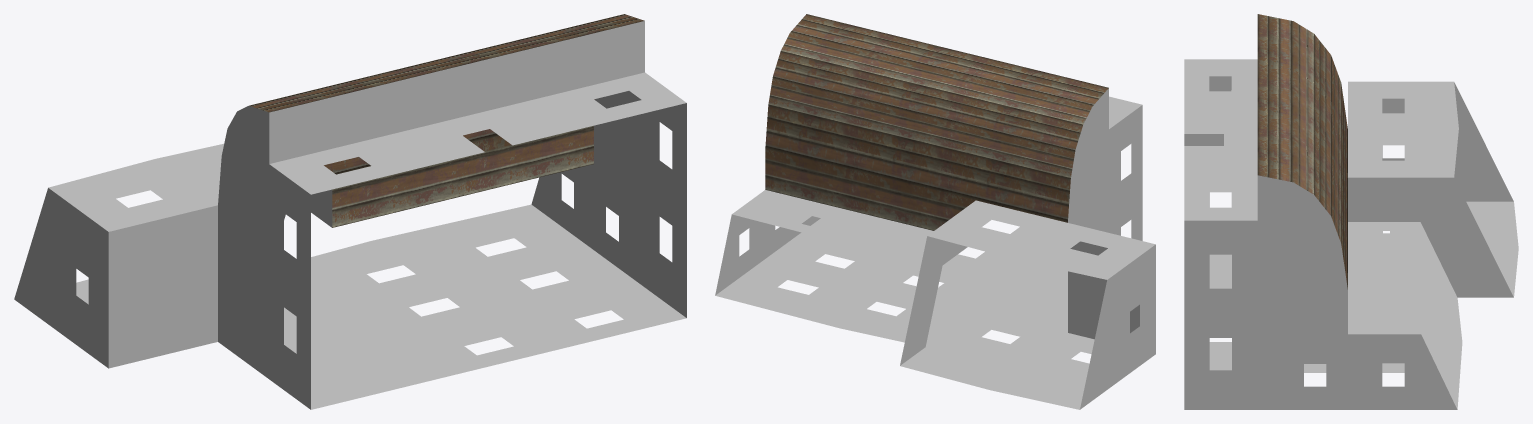
The model's file is Pirate_Bar_Exterior_B.fbx.
3 renders of one model, left to right at view 1: azimuth 30°, elevation 25°; view 2: azimuth 150°, elevation 25°; view 3: azimuth 270°, elevation 25°, orthographic. The views are drawn at different scales.
Visible parts, largest first — view 1: Pirate_Bar_Exterior_B; view 2: Pirate_Bar_Exterior_B; view 3: Pirate_Bar_Exterior_B.
Boxes of the visible parts, left/top/right/bottom form: Pirate_Bar_Exterior_B: left=14, top=14, right=686, bottom=409; Pirate_Bar_Exterior_B: left=715, top=14, right=1155, bottom=409; Pirate_Bar_Exterior_B: left=1184, top=14, right=1518, bottom=409.
Bounding box in the file's own units: 26.1 × 13.72 × 17.72.
